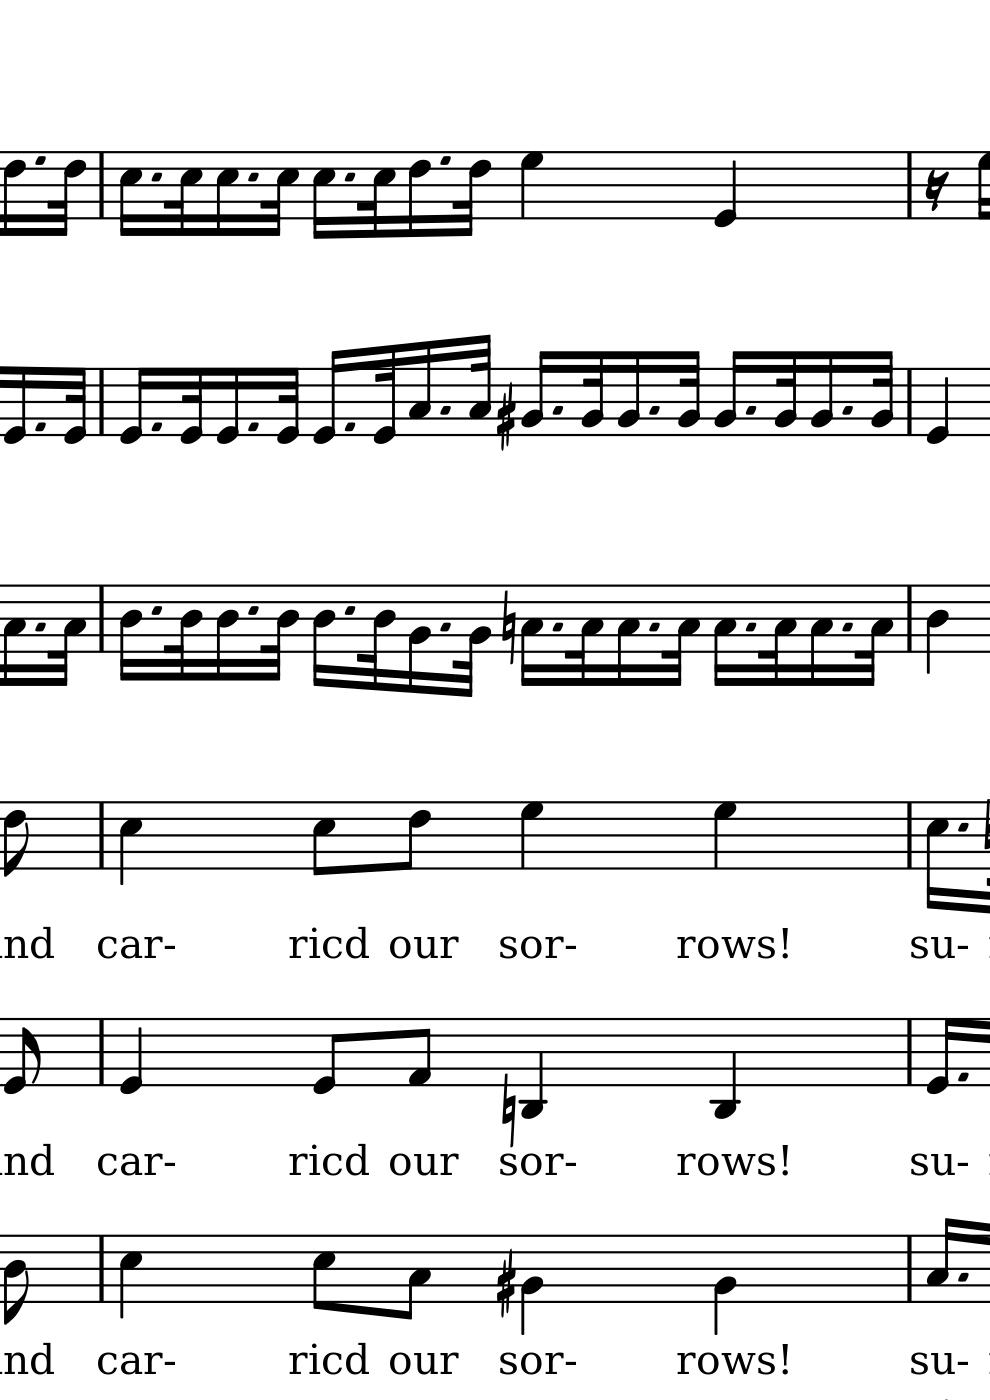16_0: (310, 348, 347, 445), (922, 1017, 959, 1096), (120, 367, 152, 446), (2, 365, 27, 449), (216, 367, 241, 445)
16_2: (712, 349, 750, 438), (406, 582, 435, 694), (521, 348, 550, 438), (617, 349, 642, 437), (813, 349, 834, 438)
16_3: (926, 1215, 959, 1304), (616, 584, 642, 688), (809, 582, 834, 690), (520, 583, 544, 689), (712, 584, 737, 688), (2, 583, 26, 687), (409, 340, 433, 438)
16_4: (312, 584, 336, 690), (214, 584, 240, 682), (119, 584, 142, 682)
16_5: (926, 799, 951, 913), (118, 150, 144, 240), (312, 151, 337, 241), (216, 150, 240, 240)
16_6: (408, 150, 432, 238), (4, 149, 26, 239)
32_0: (370, 342, 397, 446), (60, 365, 87, 446), (178, 366, 205, 446), (276, 366, 299, 446)
32_2: (451, 584, 492, 697), (581, 349, 606, 437), (774, 349, 797, 438), (678, 350, 702, 438), (871, 350, 895, 437)
32_3: (564, 583, 604, 687), (662, 583, 701, 690), (49, 582, 88, 688), (759, 582, 797, 686), (856, 582, 892, 689), (468, 334, 492, 437)
32_4: (357, 581, 397, 691), (259, 582, 301, 681), (162, 582, 202, 682)
32_5: (358, 150, 397, 241), (260, 151, 300, 238), (164, 149, 202, 238)
32_6: (49, 150, 89, 238), (454, 149, 492, 238)
4_-3: (710, 1017, 739, 1121), (520, 1015, 546, 1121)
4_0: (117, 1017, 145, 1096), (924, 366, 949, 446), (712, 150, 737, 229)
4_2: (517, 1233, 545, 1335), (711, 1233, 737, 1335)
4_4: (924, 582, 948, 674)
4_5: (118, 800, 145, 887), (119, 1234, 142, 1318)
4_7: (519, 801, 547, 870), (520, 150, 546, 220), (712, 799, 738, 869)
8_0: (311, 1015, 343, 1096)
8_1: (407, 1015, 433, 1089)
8_2: (3, 1017, 42, 1096)
8_3: (397, 1233, 432, 1322)
8_4: (2, 1233, 31, 1324)
8_5: (311, 1232, 337, 1314), (311, 800, 337, 878)
8_6: (395, 798, 431, 874), (2, 799, 30, 880)
Natural: (501, 1073, 517, 1144), (501, 591, 516, 666)
Rests16: (925, 169, 948, 209)
Sharp: (494, 1249, 515, 1318), (496, 382, 516, 450)
Single_barline: (899, 585, 920, 653), (899, 802, 920, 871), (899, 1018, 919, 1085), (899, 368, 919, 435), (92, 368, 111, 436), (93, 1235, 112, 1303), (92, 152, 111, 219), (92, 802, 111, 869), (899, 152, 918, 219), (93, 1018, 111, 1086), (92, 586, 110, 653), (900, 1235, 918, 1303)
